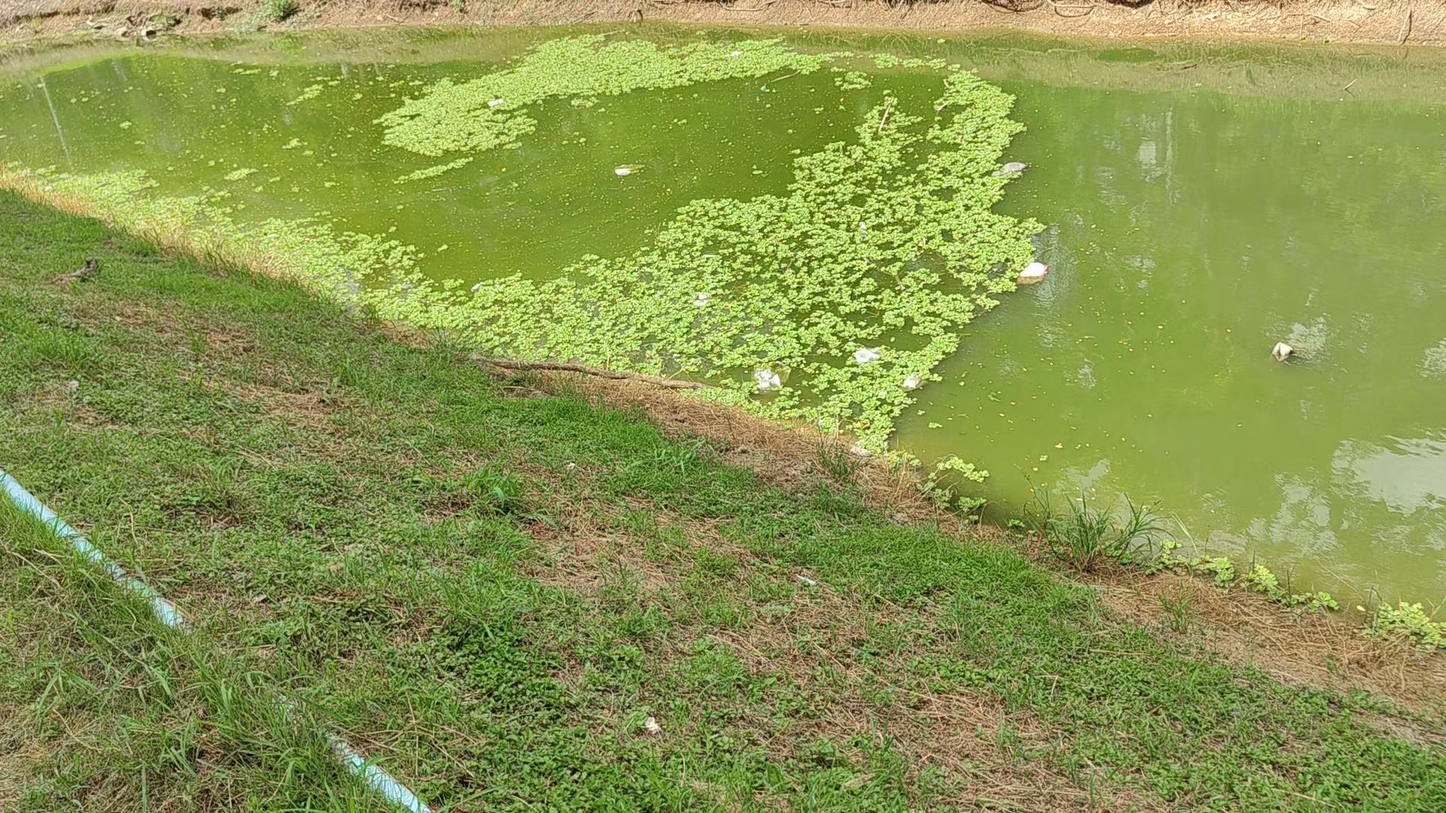trash: (755, 360, 792, 391), (1017, 261, 1047, 284), (1271, 342, 1293, 361), (996, 162, 1027, 175), (854, 348, 879, 364), (901, 373, 921, 390), (694, 292, 711, 306), (615, 166, 631, 175), (487, 98, 504, 106), (860, 221, 866, 233), (730, 51, 741, 56)
